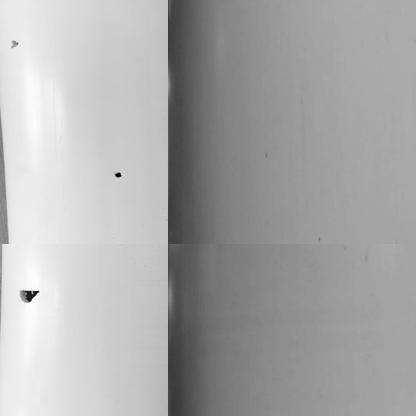kongdong: (16, 286, 40, 305), (114, 169, 126, 180), (9, 37, 20, 48)
